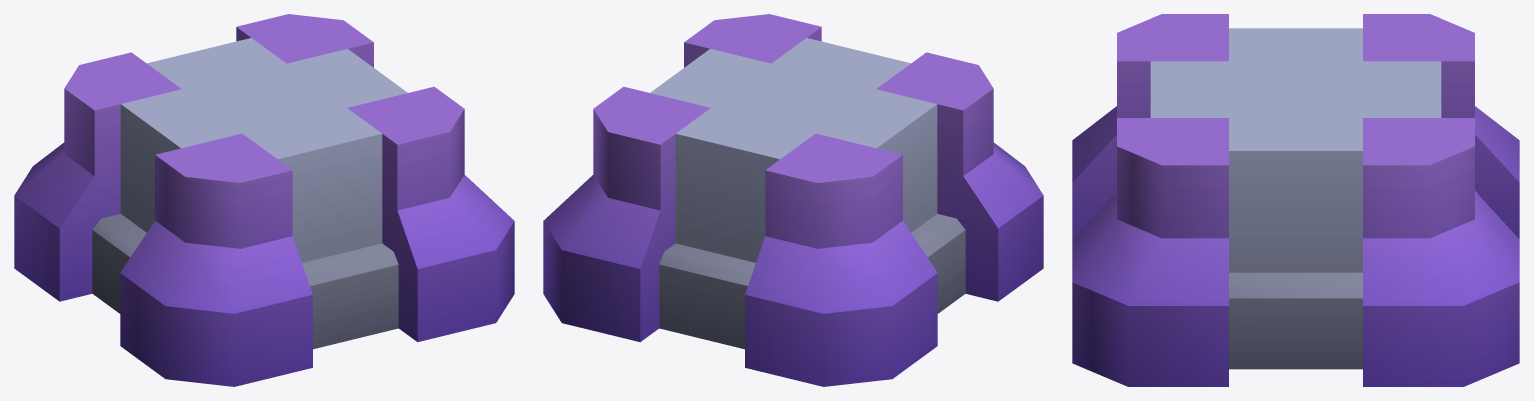
File: tower-square-bottom-b.glb
3 renders of one model, left to right at view 1: azimuth 30°, elevation 25°; view 2: azimuth 150°, elevation 25°; view 3: azimuth 270°, elevation 25°, orthographic. The views are drawn at different scales.
Parts seen in each view (by area): view 1: tower-square-bottom-b; view 2: tower-square-bottom-b; view 3: tower-square-bottom-b.
Part boxes in pixels (left/top/right/bottom): tower-square-bottom-b: left=14, top=14, right=514, bottom=386; tower-square-bottom-b: left=543, top=14, right=1043, bottom=386; tower-square-bottom-b: left=1072, top=14, right=1519, bottom=386.
Bounding box in the file's own units: 1 × 0.5001 × 1.
1 material, 1 textured.
